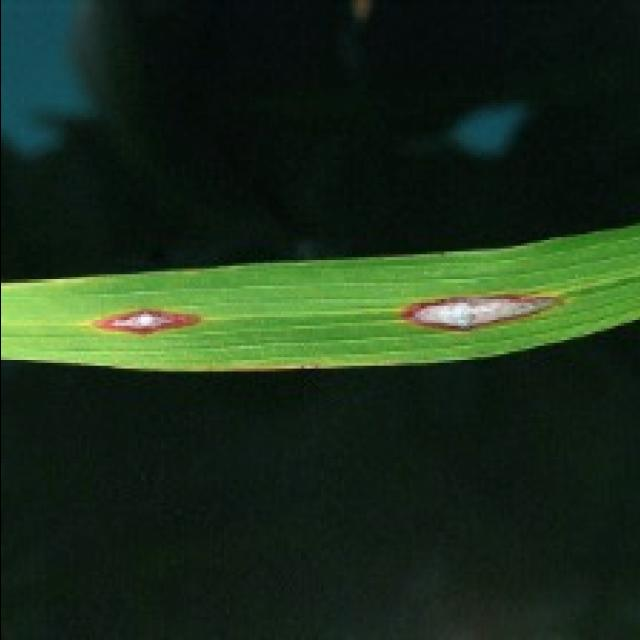Unhealthy: (403, 294, 565, 334), (80, 307, 200, 341)
